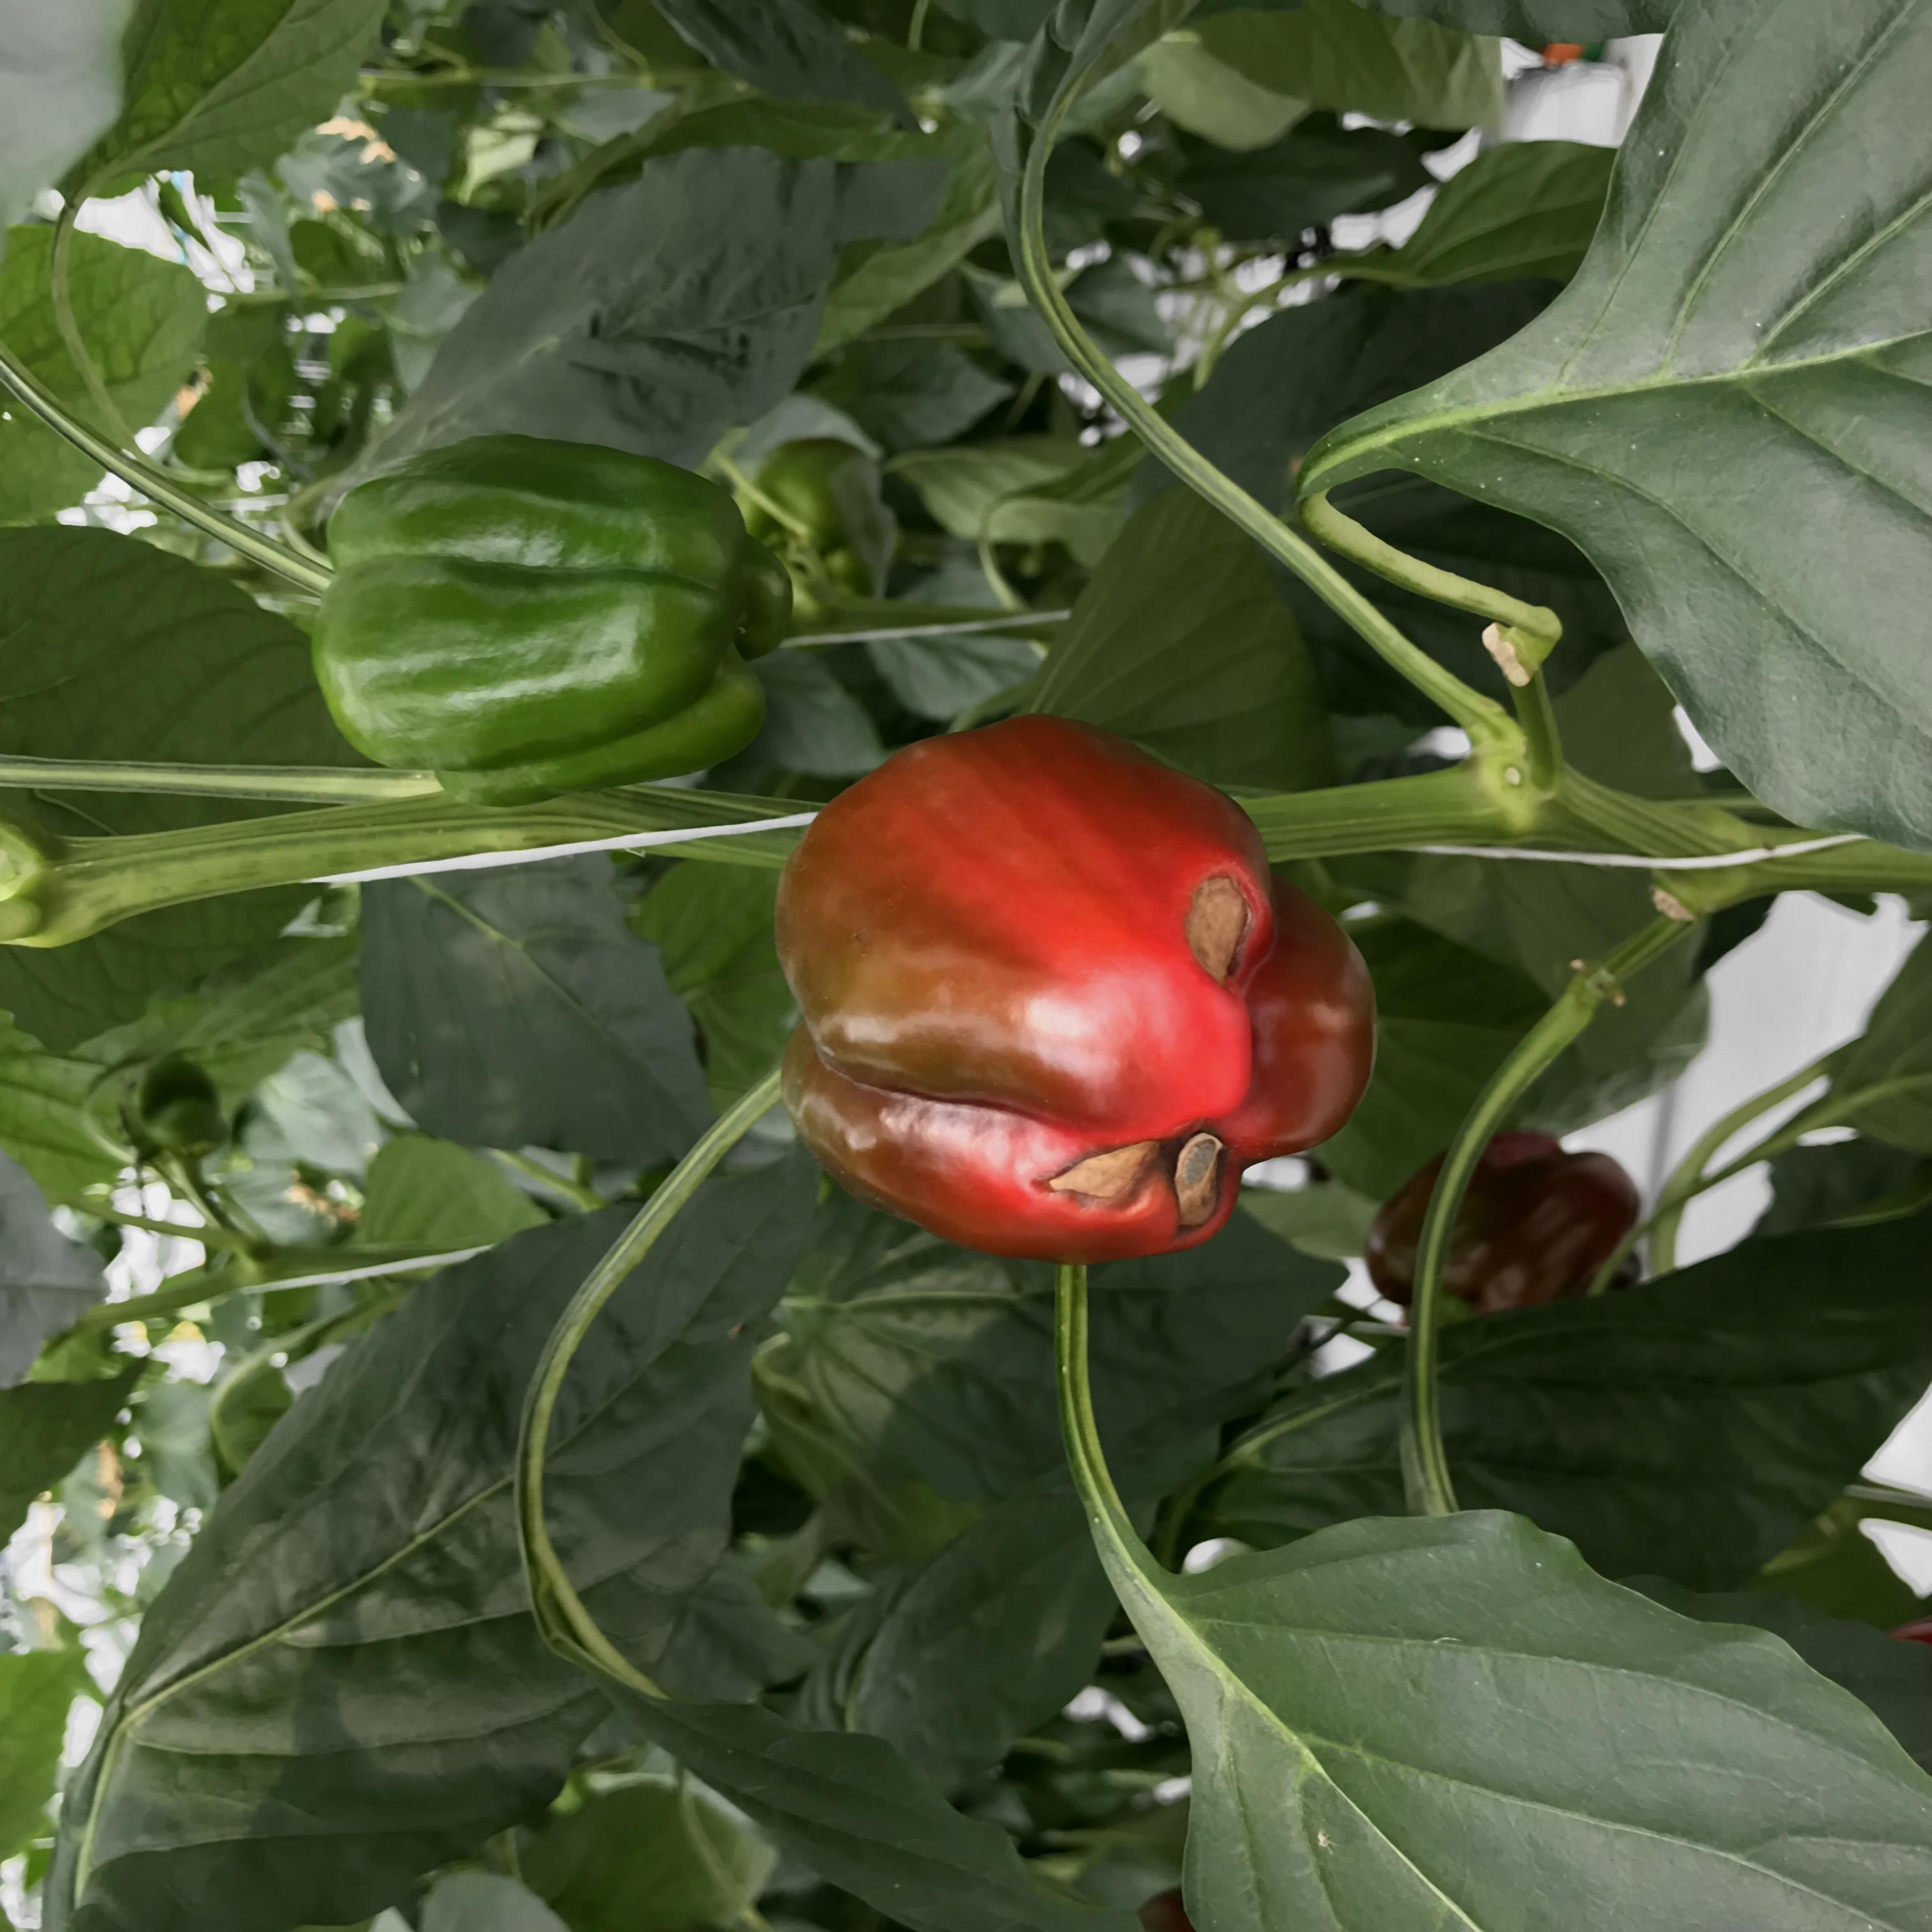blossom_end_rot: (1037, 1108, 1279, 1253), (1161, 858, 1290, 1014)
